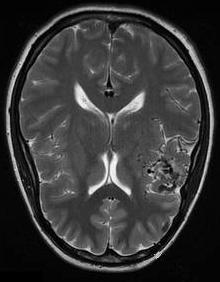Normal_Brain: (1, 1, 220, 282)
